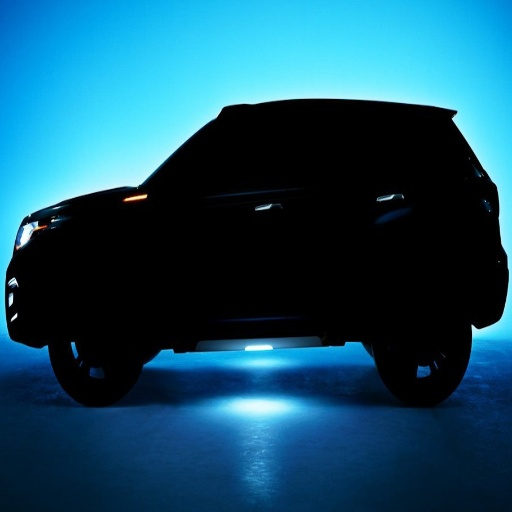trunk: (313, 212, 426, 279)
